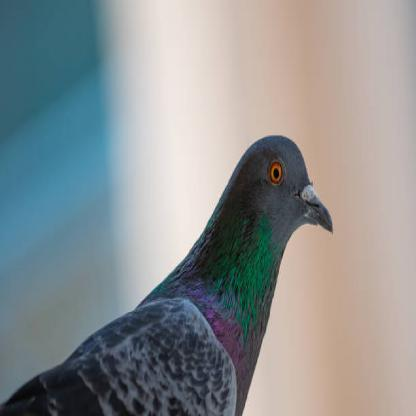Flying Rat: (1, 127, 352, 416)
